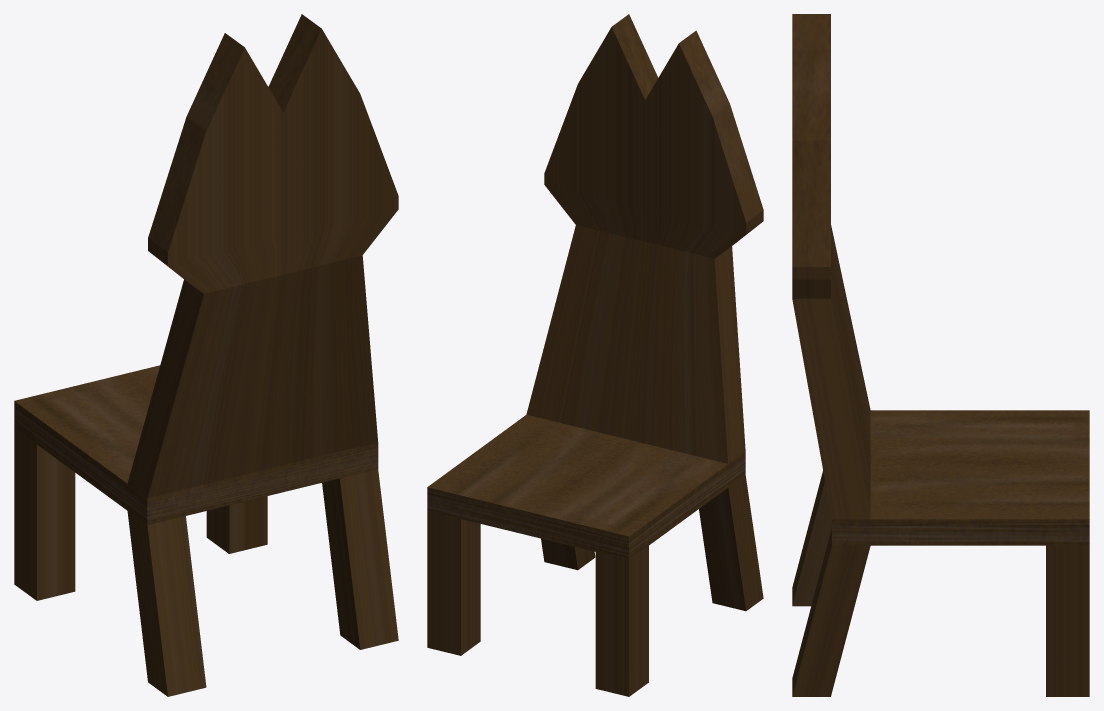
Rendered from chair.glb.
3 views of the same model, side by side, from view 1: azimuth 30°, elevation 25°; view 2: azimuth 150°, elevation 25°; view 3: azimuth 270°, elevation 25° (orthographic). The views are drawn at different scales.
Parts seen in each view (by area): view 1: chairBake; view 2: chairBake; view 3: chairBake.
Part boxes in pixels (x1=…): chairBake: x1=14, y1=14, x2=398, y2=696; chairBake: x1=427, y1=14, x2=763, y2=696; chairBake: x1=792, y1=14, x2=1089, y2=696.
Bounding box in the file's own units: 0.6479 × 1.69 × 0.7479.
Materials: 1 (1 with a texture image).
